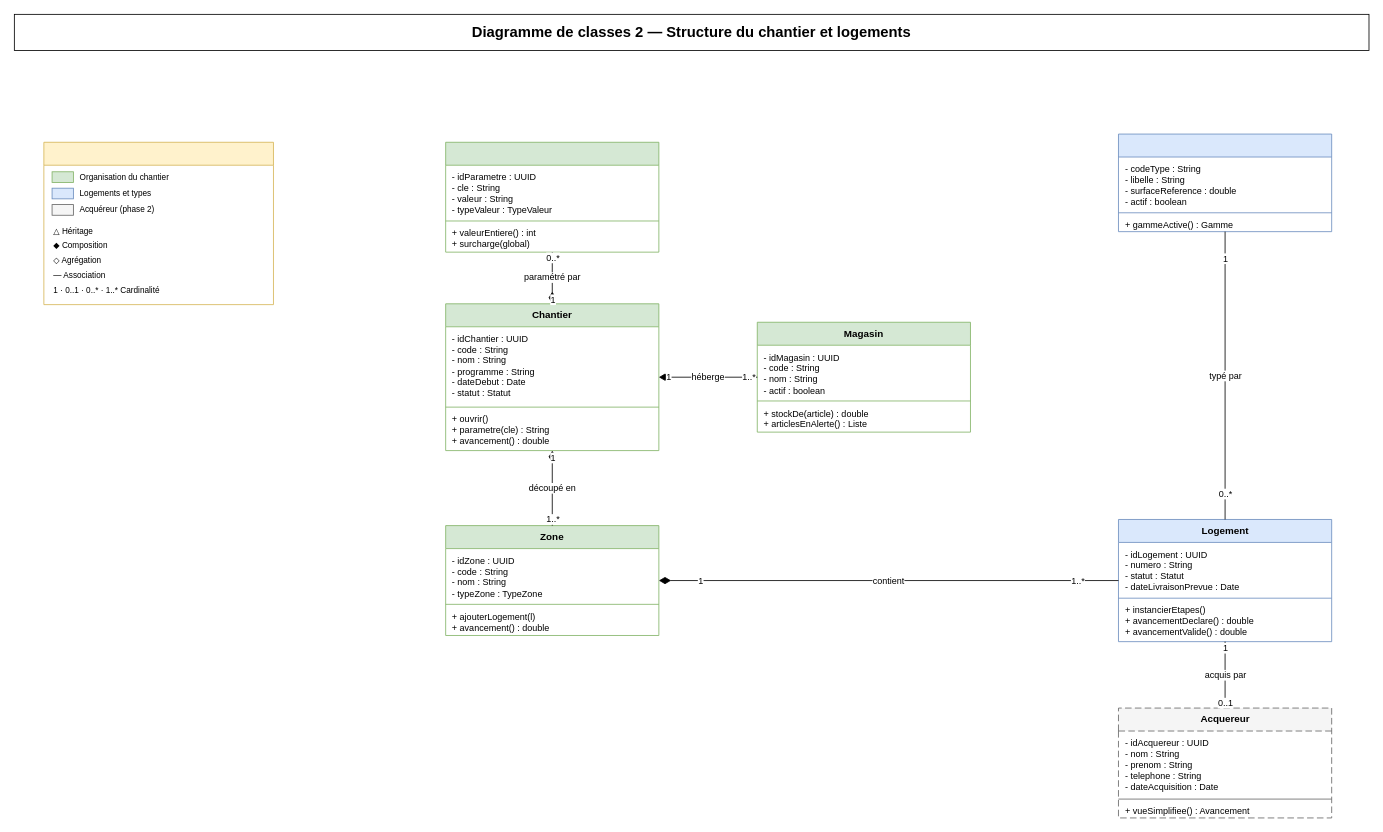
The diagram is 1383 pixels wide and 832 high, and some of its shapes have lost their labels. Each missing label, with the box of its shape:
Légende: (43, 141, 273, 305)
ParametreChantier: (445, 141, 659, 252)
TypeLogement: (1118, 133, 1332, 232)
